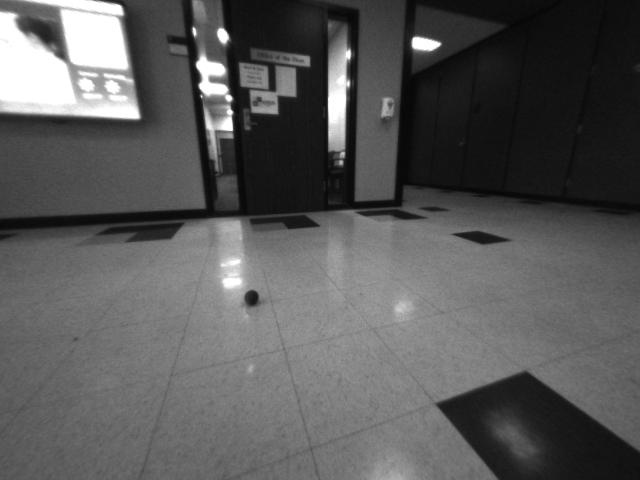dogtoy: (238, 283, 269, 311)
